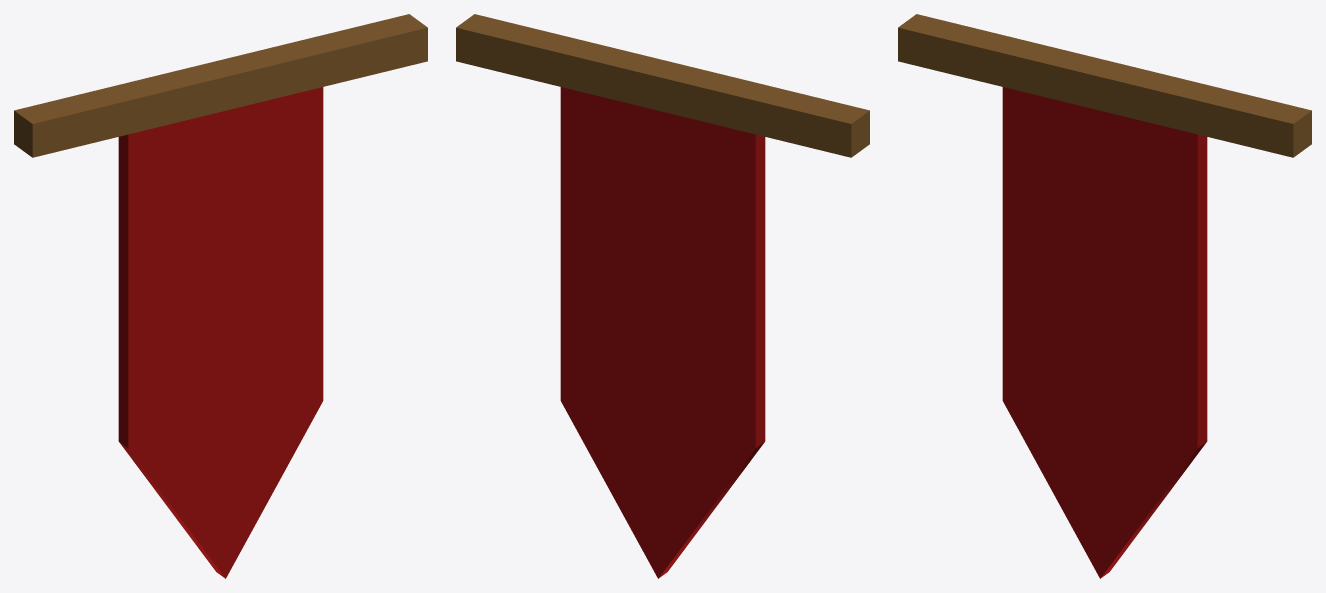
Rendered from vikingthiefflag.fbx.
The picture shows the model from 3 angles, left to right: view 1: azimuth 30°, elevation 25°; view 2: azimuth 150°, elevation 25°; view 3: azimuth 330°, elevation 25°; orthographic projection.
Visible parts, largest first — view 1: pCube12; view 2: pCube12; view 3: pCube12.
Boxes of the visible parts, <box> form: pCube12: <box>14,14,427,578</box>; pCube12: <box>456,14,869,578</box>; pCube12: <box>898,14,1311,578</box>.
Bounding box in the file's own units: 25.03 × 30.64 × 2.04.
Materials: 1 (1 with a texture image).
